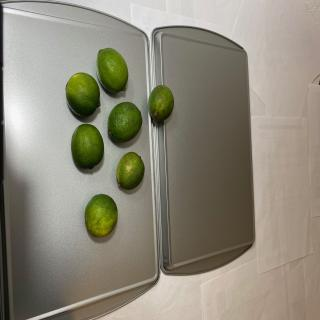Apple: (148, 85, 174, 122)
Lemon: (71, 123, 104, 170), (84, 193, 118, 238), (66, 72, 100, 117), (96, 47, 128, 93), (108, 101, 142, 143), (116, 152, 145, 190)
